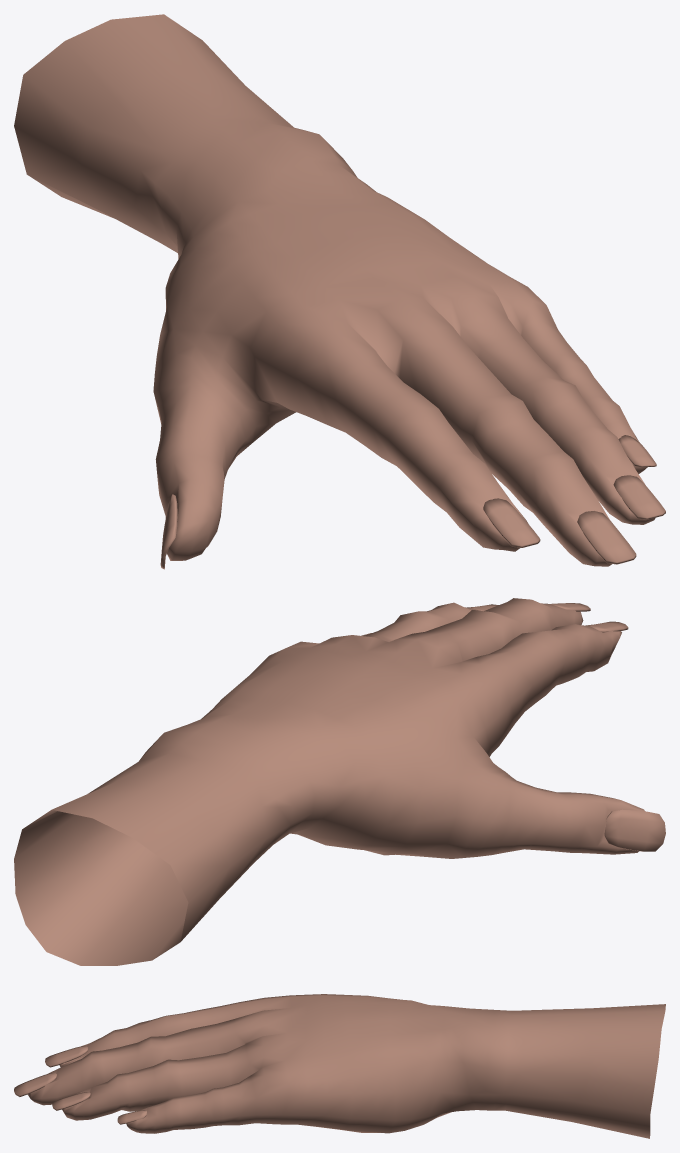
Rendered from 3_2_HandSmoothLeftBack.glb.
3 renders of one model, top to bottom at view 1: azimuth 30°, elevation 25°; view 2: azimuth 150°, elevation 25°; view 3: azimuth 270°, elevation 25°, orthographic. The views are drawn at different scales.
Visible parts, largest first — view 1: hand_femme_rachel_polySurface1130; view 2: hand_femme_rachel_polySurface1130; view 3: hand_femme_rachel_polySurface1130.
Boxes of the visible parts, bbox=[...] form: hand_femme_rachel_polySurface1130: bbox=[14, 14, 665, 569]; hand_femme_rachel_polySurface1130: bbox=[14, 598, 665, 965]; hand_femme_rachel_polySurface1130: bbox=[14, 994, 665, 1138].
Size of the model in its own units: 0.0793 by 0.0399 by 0.1742.
